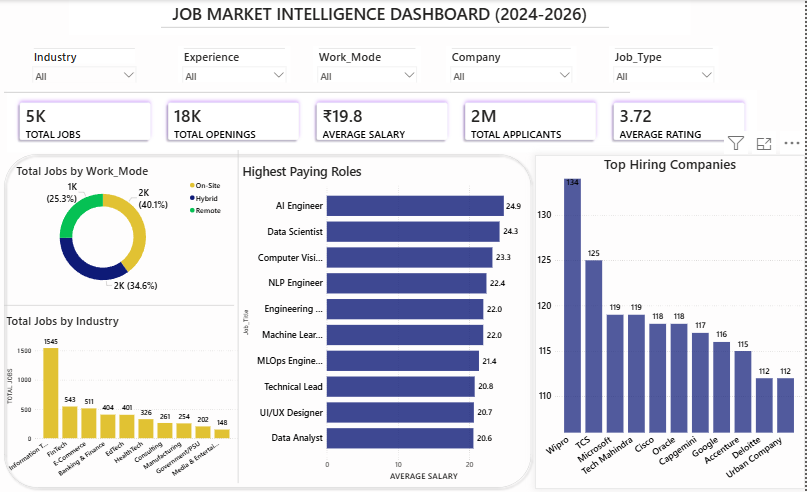

What the dashboard file says about the page in this screenshot:
{"tool":"powerbi","page":{"name":"Page 1","canvas":[1800,1100],"ordinal":0},"visuals":[{"type":"textbox","box":[155.2,0,1389.6,77.6],"z":0},{"type":"shape","box":[359.8,0,1001.7,122.3],"z":1000},{"type":"slicer","fields":{"Values":["india_job_market_2024_2026.Experience_Level"]},"box":[397.4,103.5,251.6,82.3],"z":2000},{"type":"slicer","fields":{"Values":["india_job_market_2024_2026.Work_Mode"]},"box":[700.7,103.5,242.2,82.3],"z":3000},{"type":"slicer","fields":{"Values":["india_job_market_2024_2026.Company"]},"box":[997,103.5,291.6,82.3],"z":4000},{"type":"slicer","fields":{"Values":["india_job_market_2024_2026.Job_Type"]},"box":[1361.4,103.5,244.5,82.3],"z":5000},{"type":"cardVisual","fields":{"Data":["india_job_market_2024_2026.TOTAL JOBS","india_job_market_2024_2026.TOTAL OPENINGS","india_job_market_2024_2026.AVERAGE SALARY","india_job_market_2024_2026.TOTAL APPLICANTS","india_job_market_2024_2026.AVERAGE RATING"]},"box":[11.2,196.7,1690.2,149.8],"z":7000},{"type":"slicer","fields":{"Values":["india_job_market_2024_2026.Industry"]},"box":[63.5,103.5,251.6,82.3],"z":8000},{"type":"shape","box":[0,336.2,1196.8,764.2],"z":8002},{"type":"donutChart","title":"Total Jobs by Work_Mode","fields":{"Category":["india_job_market_2024_2026.Work_Mode"],"Y":["india_job_market_2024_2026.TOTAL JOBS"]},"box":[30.6,364.5,477.3,301],"z":8003},{"type":"columnChart","title":"Total Jobs by Industry","fields":{"Category":["india_job_market_2024_2026.Industry"],"Y":["india_job_market_2024_2026.TOTAL JOBS"]},"box":[9.4,700.7,526.7,380.9],"z":8004},{"type":"shape","box":[9.4,620.7,514.9,122.3],"z":8005},{"type":"shape","box":[275.1,336.2,514.9,745.4],"z":8006},{"type":"barChart","title":"Highest Paying Roles","fields":{"Category":["india_job_market_2024_2026.Job_Title"],"Y":["india_job_market_2024_2026.AVERAGE SALARY"]},"box":[536.1,364.5,641.9,717.2],"z":8007},{"type":"columnChart","title":"Top Hiring Companies","fields":{"Category":["india_job_market_2024_2026.Company"],"Y":["india_job_market_2024_2026.TOTAL JOBS"]},"box":[1196.1,346.5,603.7,746.7],"z":8008},{"type":"shape","box":[10,195.6,1400,23.9],"z":8009}]}

Visuals, with their boxes in screenshot pixels (x1, y1, x2, y2), scaled from the page's 1800x1100 canvas onto the 807x492 screenshot:
textbox: 70 0 693 35
shape: 161 0 610 55
slicer - india_job_market_2024_2026.Experience_Level: 178 46 291 83
slicer - india_job_market_2024_2026.Work_Mode: 314 46 423 83
slicer - india_job_market_2024_2026.Company: 447 46 578 83
slicer - india_job_market_2024_2026.Job_Type: 610 46 720 83
cardVisual - india_job_market_2024_2026.TOTAL JOBS x india_job_market_2024_2026.TOTAL OPENINGS: 5 88 763 155
slicer - india_job_market_2024_2026.Industry: 28 46 141 83
shape: 0 150 537 491
"Total Jobs by Work_Mode" donutChart: 14 163 228 298
"Total Jobs by Industry" columnChart: 4 313 240 484
shape: 4 278 235 332
shape: 123 150 354 484
"Highest Paying Roles" barChart: 240 163 528 484
"Top Hiring Companies" columnChart: 536 155 806 489
shape: 4 87 632 98
